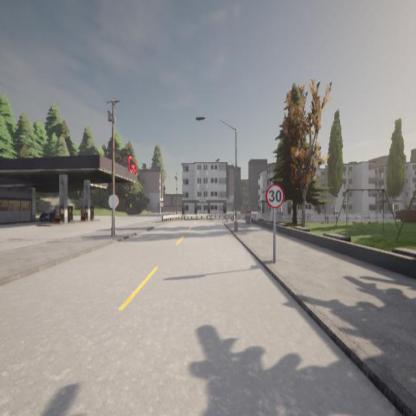traffic_sign_30: (268, 184, 283, 209)
